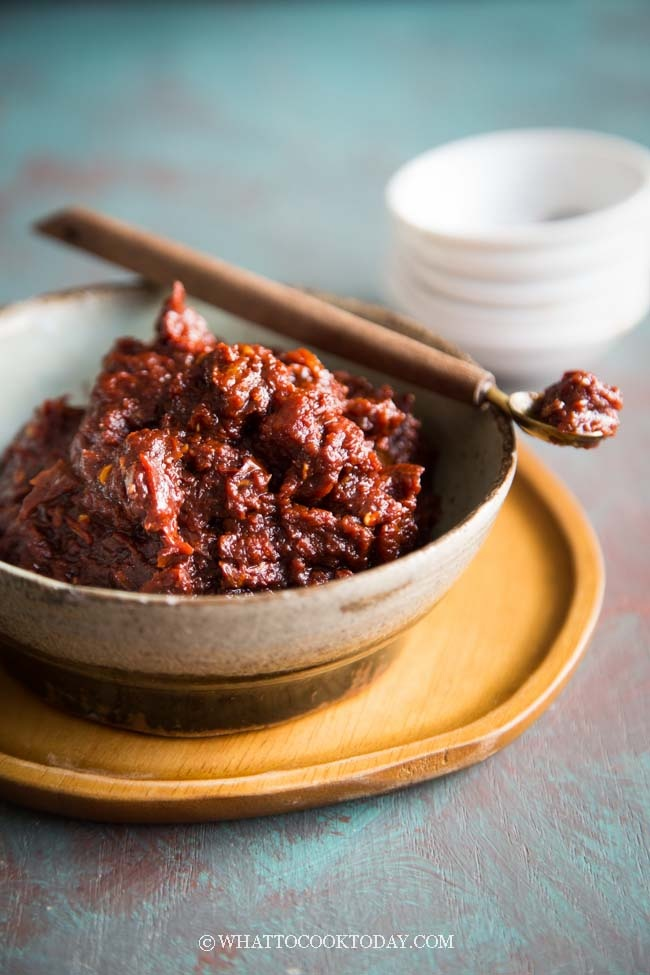sambal: (2, 282, 428, 605), (537, 369, 615, 442)
